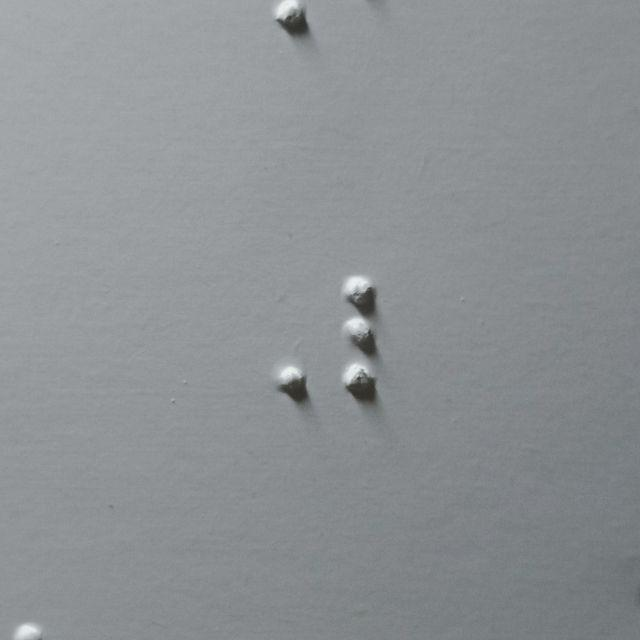L: (343, 276, 419, 402)
capital: (232, 275, 308, 401)
